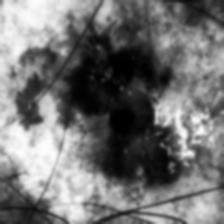Potentially Malignant Skin Tumors: (63, 40, 198, 190)
